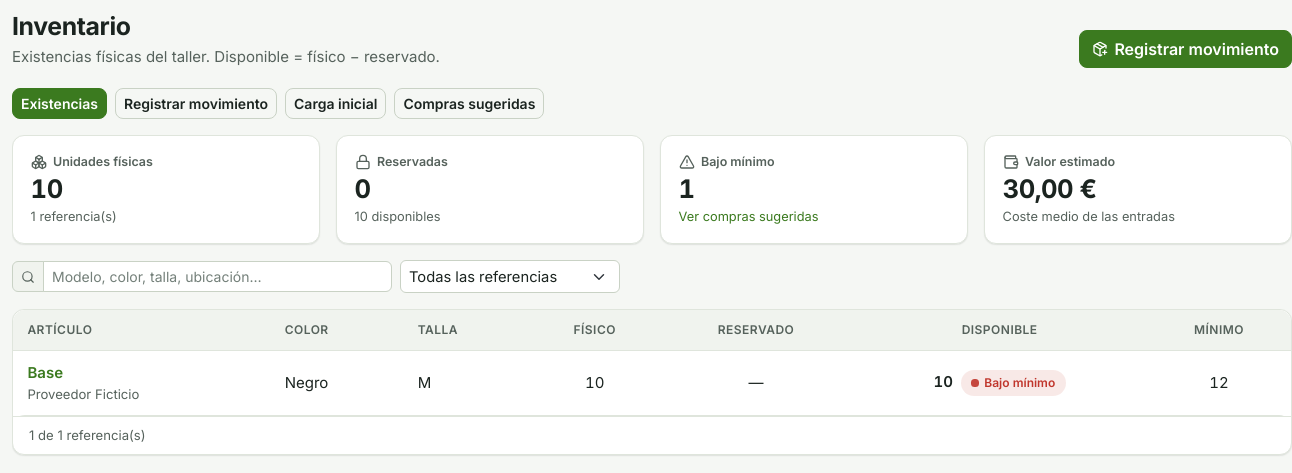
Test case: interfaz del inventario › resumen y listado con aviso de stock bajo y filtros
Expected: the text with test id "inv-fisico" reads "10", [31,173,63,204]
Expected: the text with test id "inv-bajo" reads "1", [679,173,695,204]
Select "Con reservas" in the dropdown named "Filtro de existencias" at {"x": 510, "y": 277}, box [400,260,620,293]
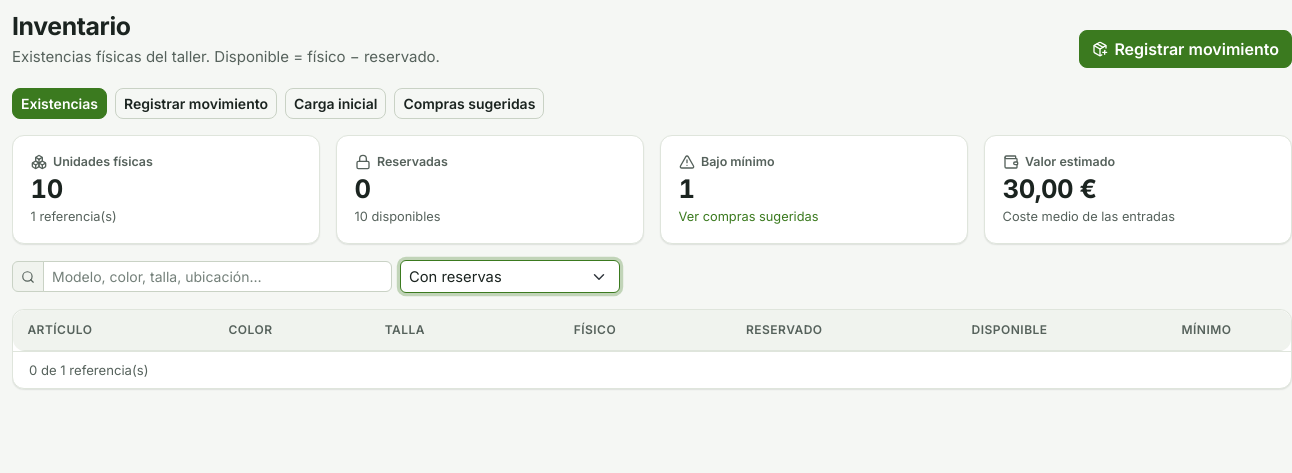
Result: the text "0 de 1 referencia(s)" is shown at [13,351,1291,388]
